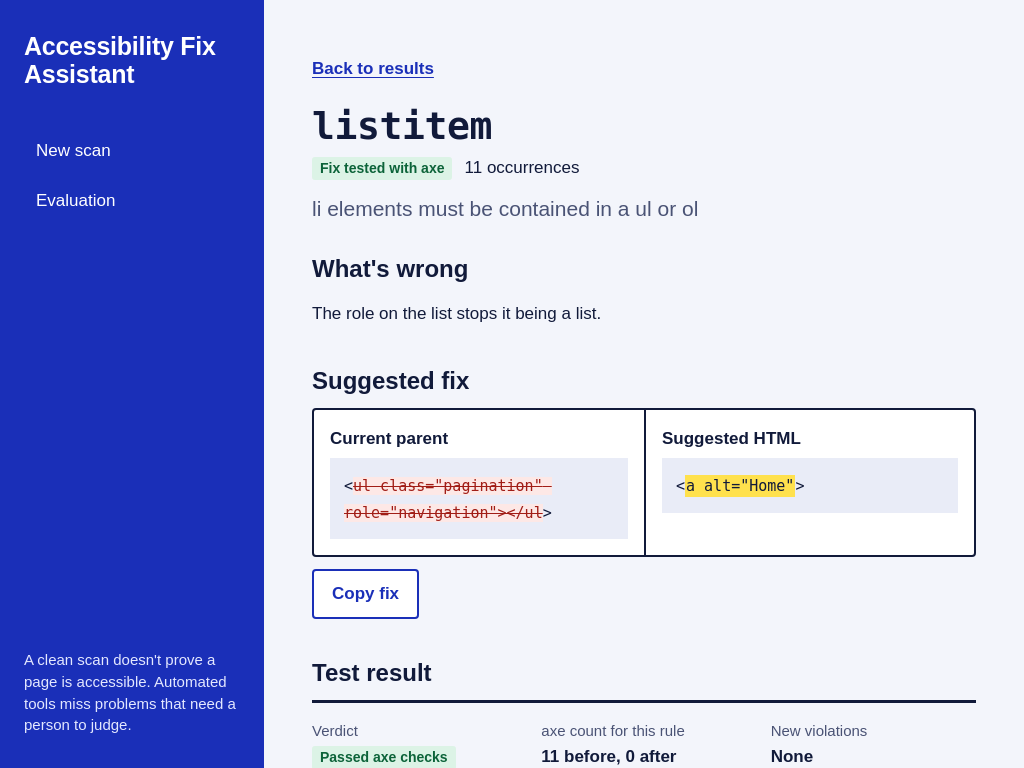
it: copy button › copies the suggested HTML
Click the button "Copy fix". click: (366,594)
box: [312,569,419,619]
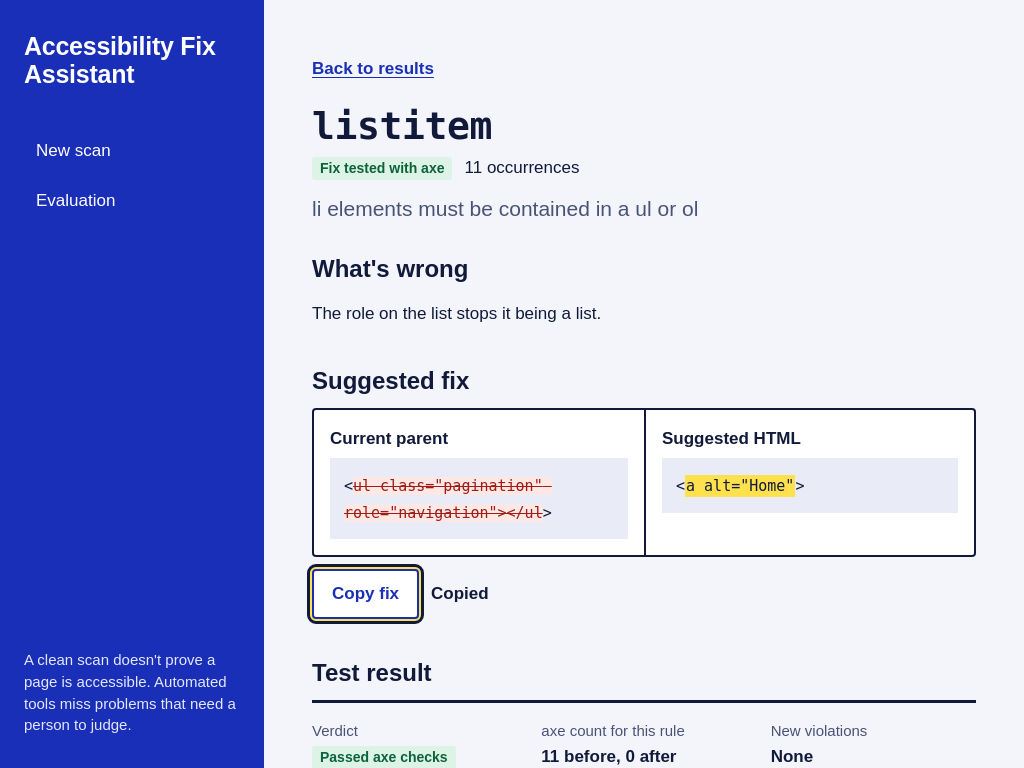
expect the text "Copied" is shown: met, box [431,581,489,607]
